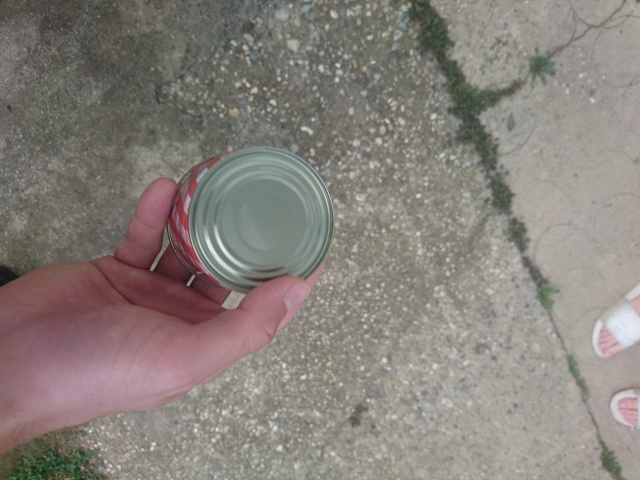Podravka Luncheon Meat 150g: (162, 142, 338, 297)
